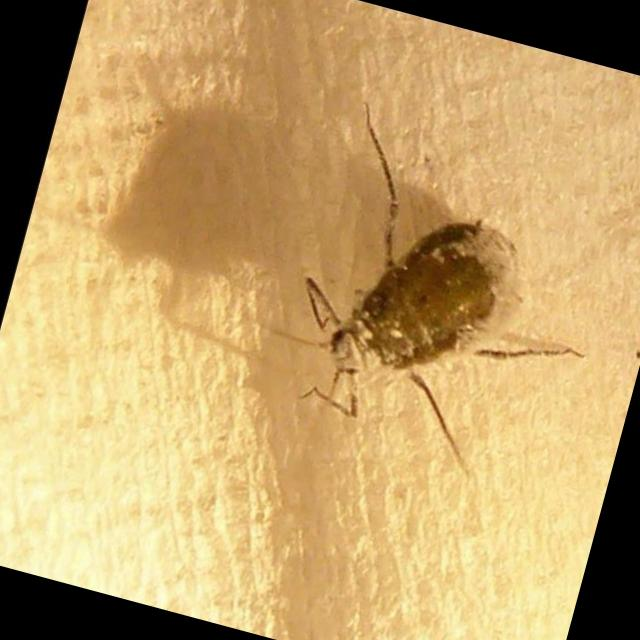aphid: (268, 144, 567, 453)
